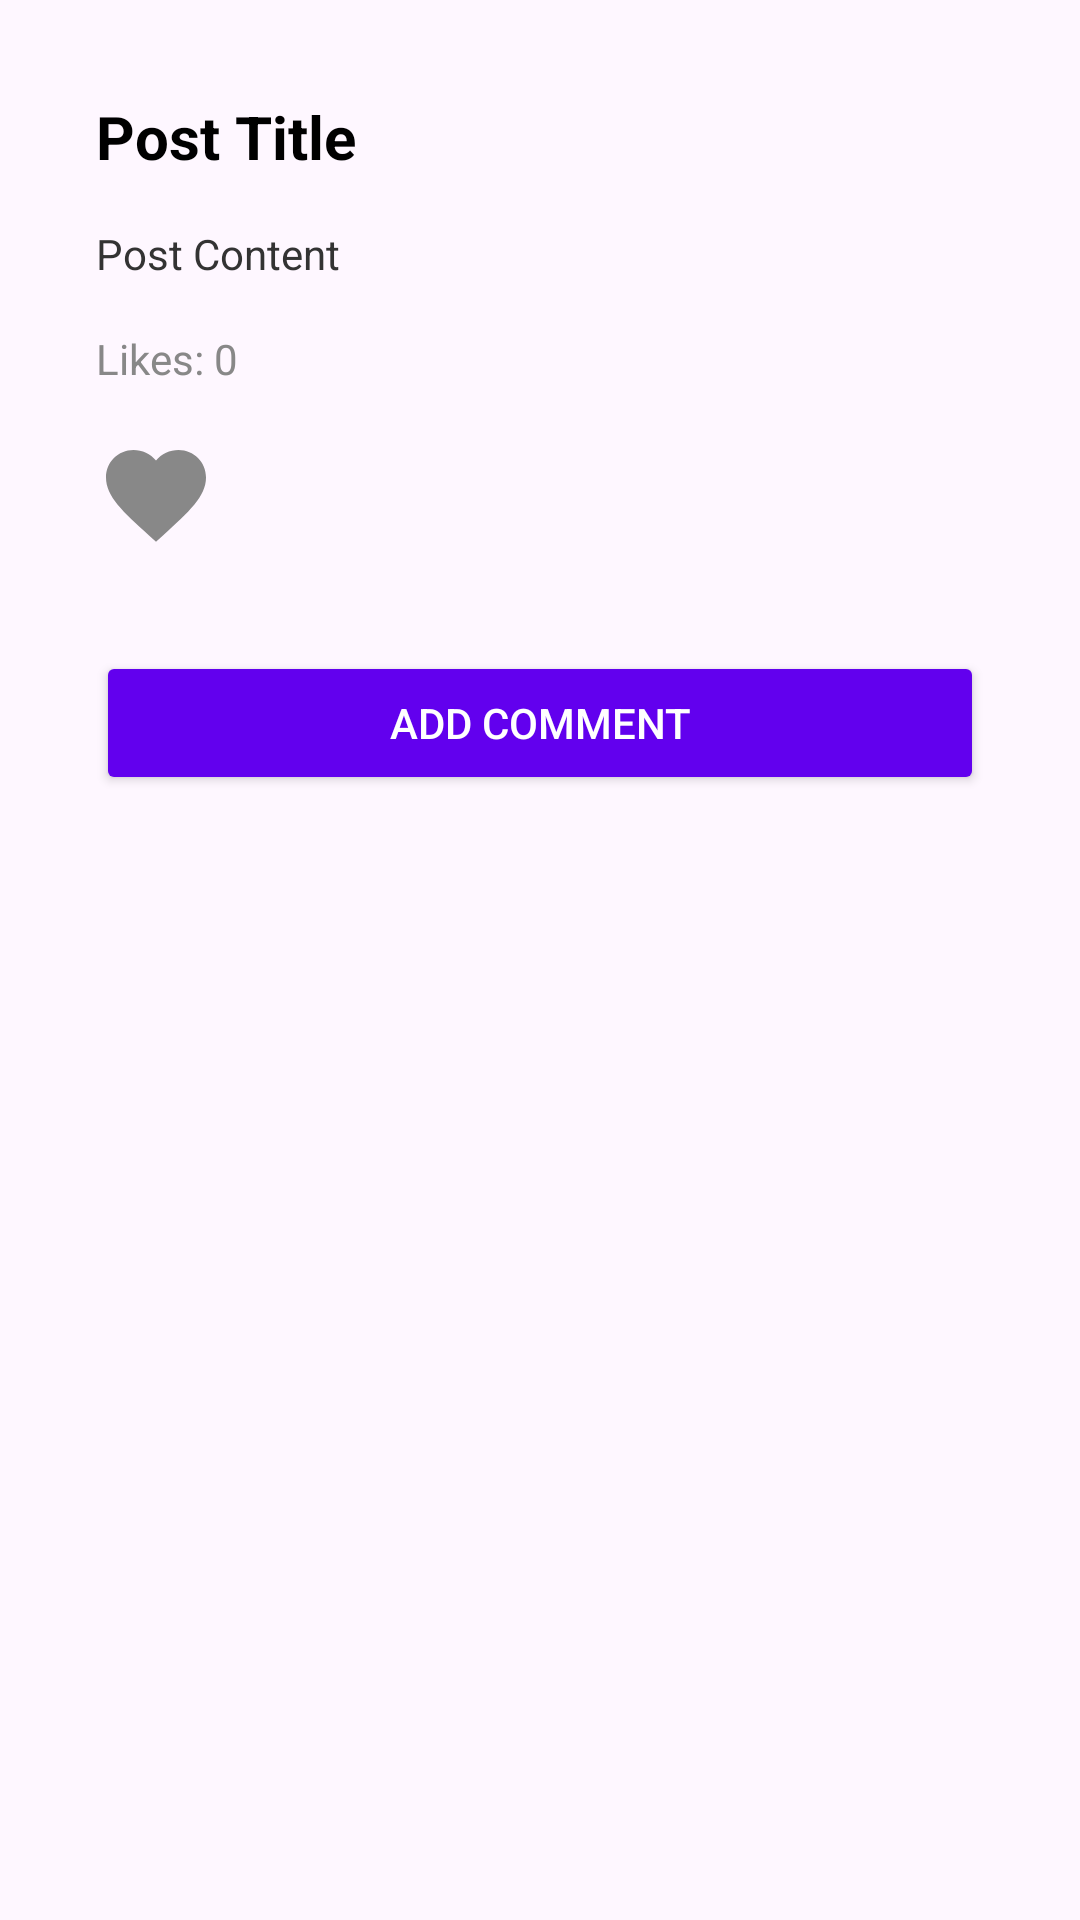

Icons on this 1080×1920 Android screen, each with its box as (x1,y1,x2,y2):
unliked: (106,450,206,542)
